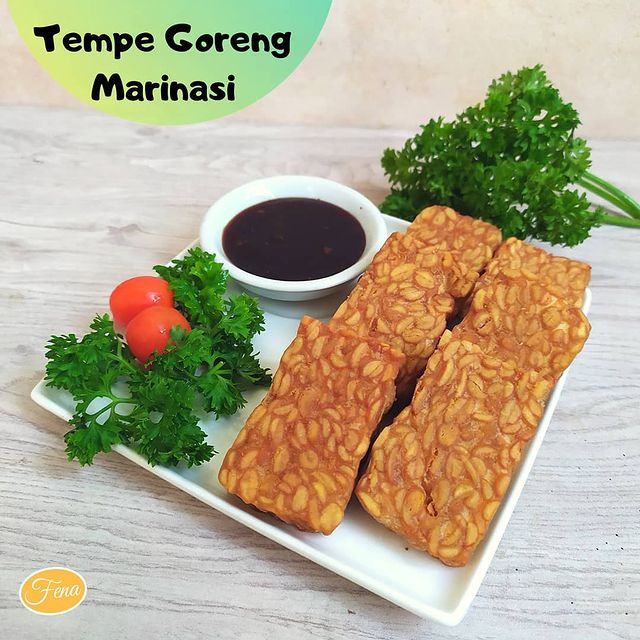Tempe: (209, 335, 413, 493), (367, 355, 550, 529), (343, 243, 458, 382), (482, 290, 607, 354), (496, 231, 589, 295), (424, 196, 501, 260)
